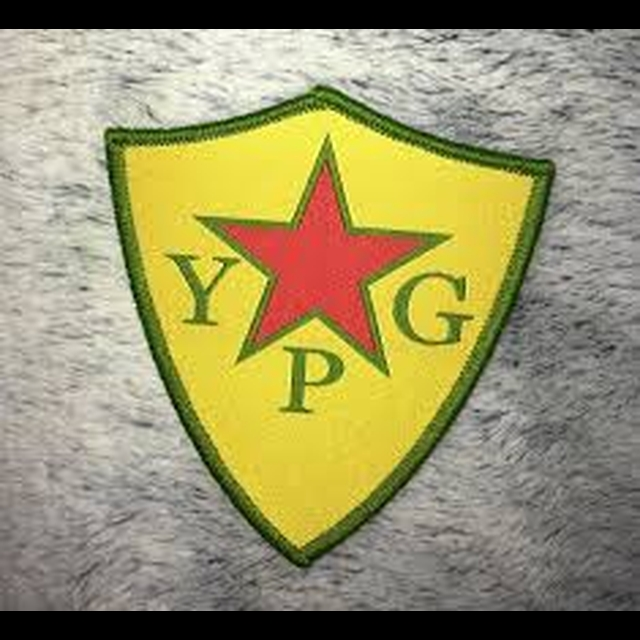YPG: (176, 139, 463, 421)
